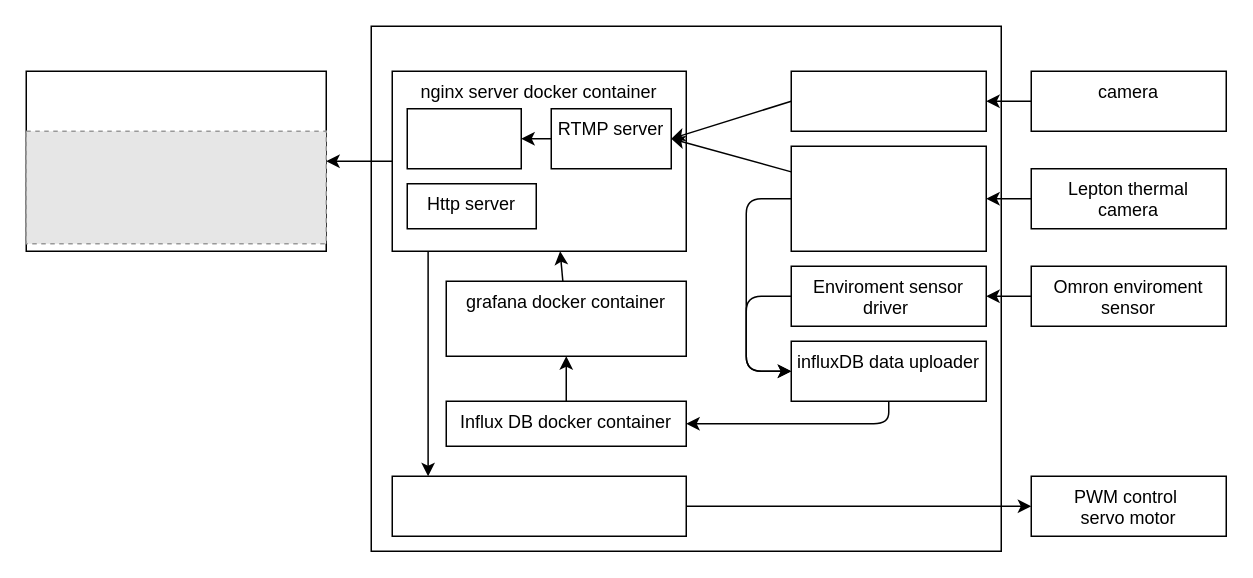
This 1253x578 diagram has some shape labels left out. Grey dashed boxes stand in for pictures. The box of each missing label's shape, as (x1, y1, x2, y2) in pixels:
Browser: (25, 70, 326, 251)
ffmpeg: (790, 70, 986, 131)
HLS server: (406, 107, 521, 169)
Lepton thermal camera driver & tempreture search software: (790, 145, 986, 251)
raspi 4: (370, 25, 1001, 551)
servo control REST api server: (391, 475, 686, 536)
